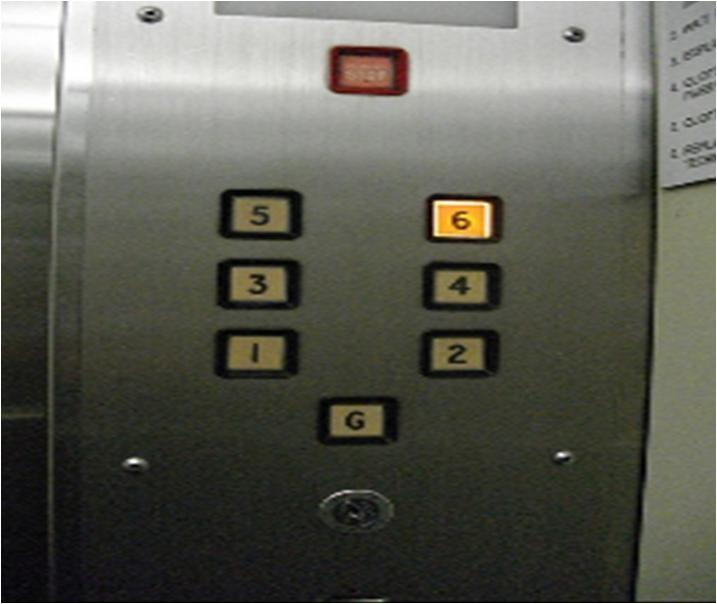1: (210, 325, 300, 378)
2: (416, 327, 502, 378)
3: (214, 256, 301, 310)
4: (418, 258, 502, 311)
5: (216, 187, 304, 239)
6: (424, 191, 506, 244)
G: (314, 394, 398, 444)
keyhole: (314, 487, 394, 531)
stop: (326, 44, 408, 96)
